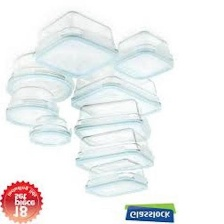plastic_box: (29, 7, 122, 79), (67, 63, 166, 122), (70, 124, 158, 178), (70, 96, 155, 149), (2, 47, 79, 105), (109, 27, 177, 84), (81, 156, 151, 203), (1, 83, 63, 131), (24, 112, 75, 150)
